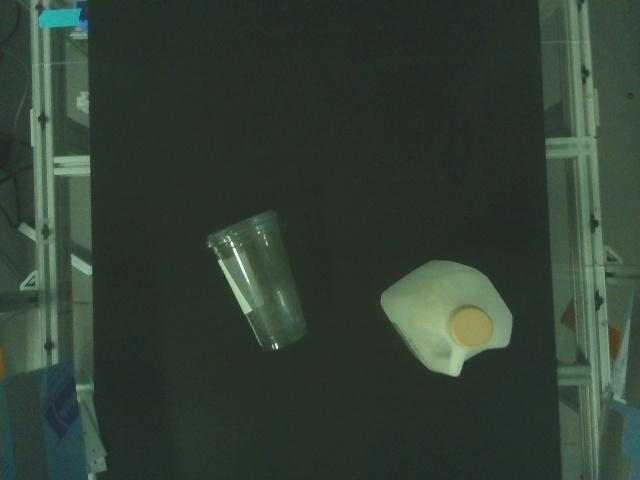plastic: (380, 258, 513, 378), (205, 209, 310, 356)
